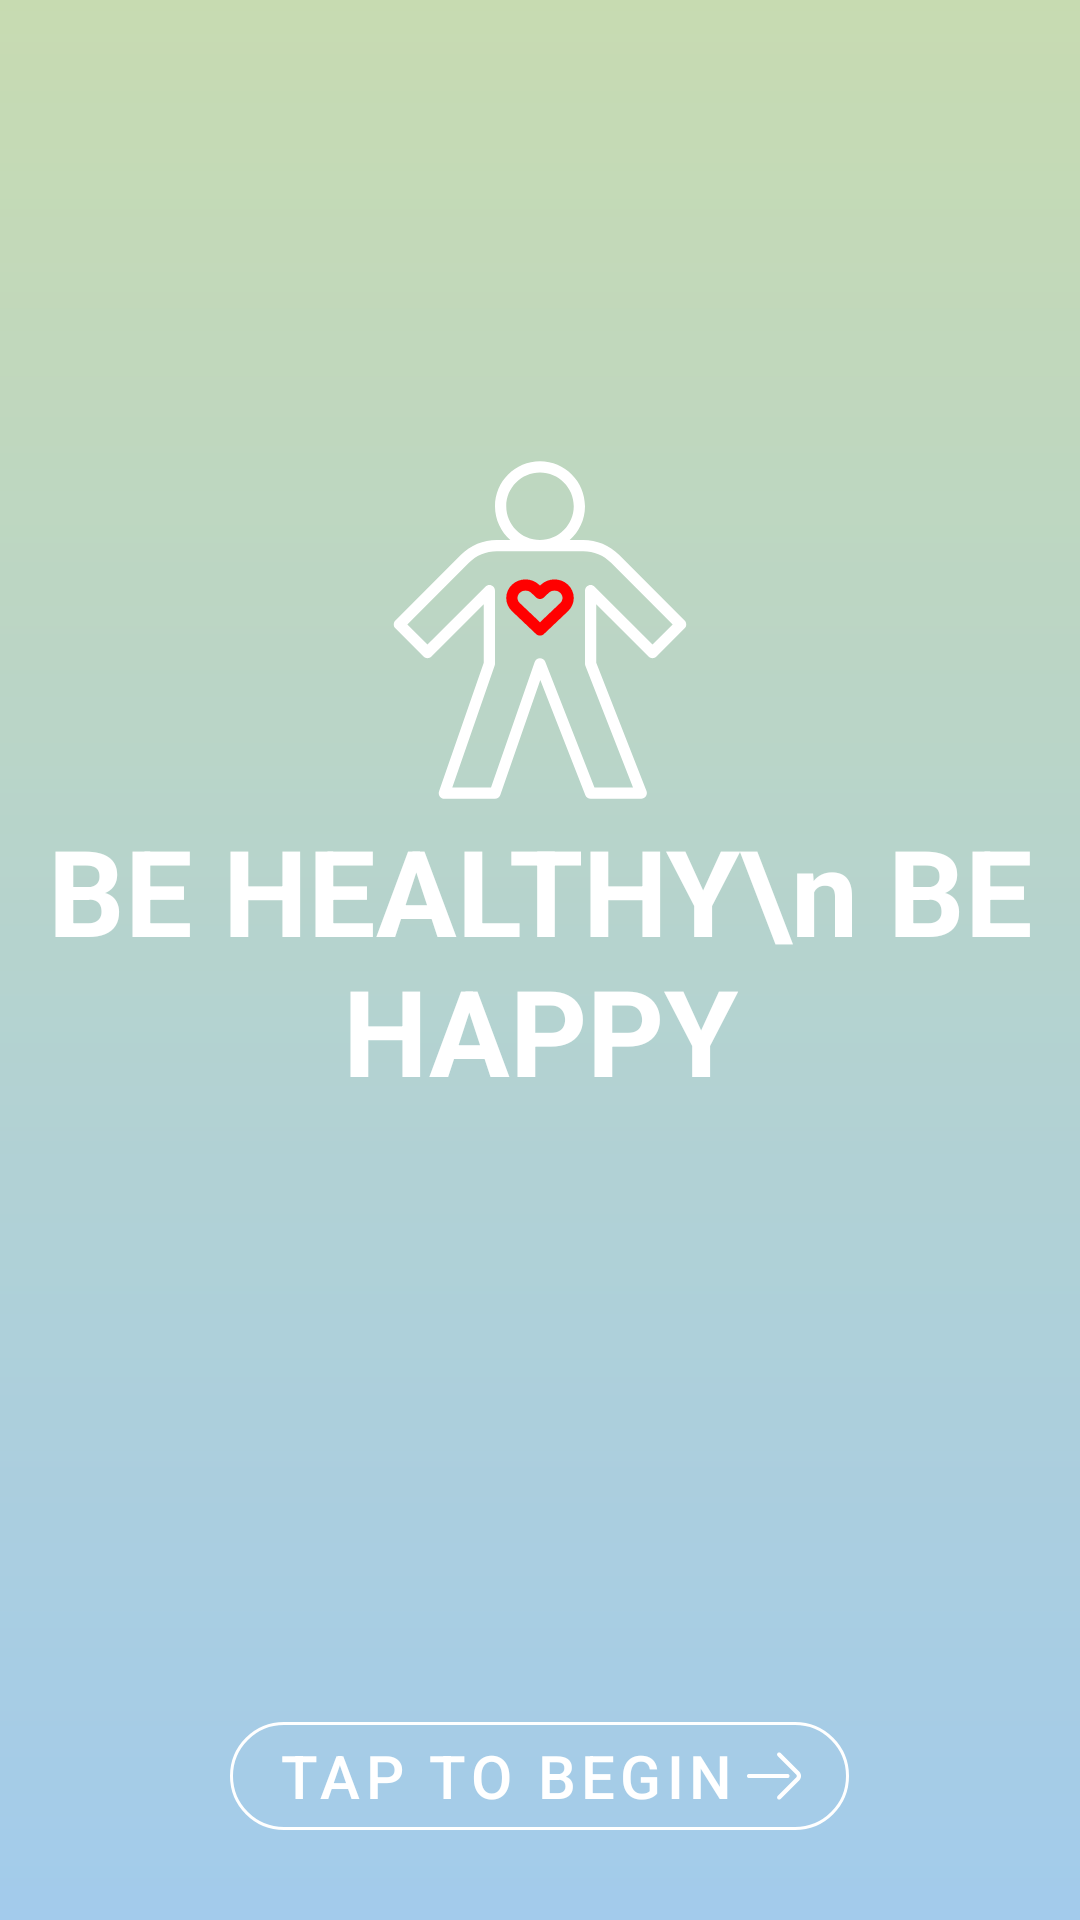

Icon click points for this 1080px x 1920px phone screenshot, format (x=x, y=y):
start body: (x=540, y=630)
